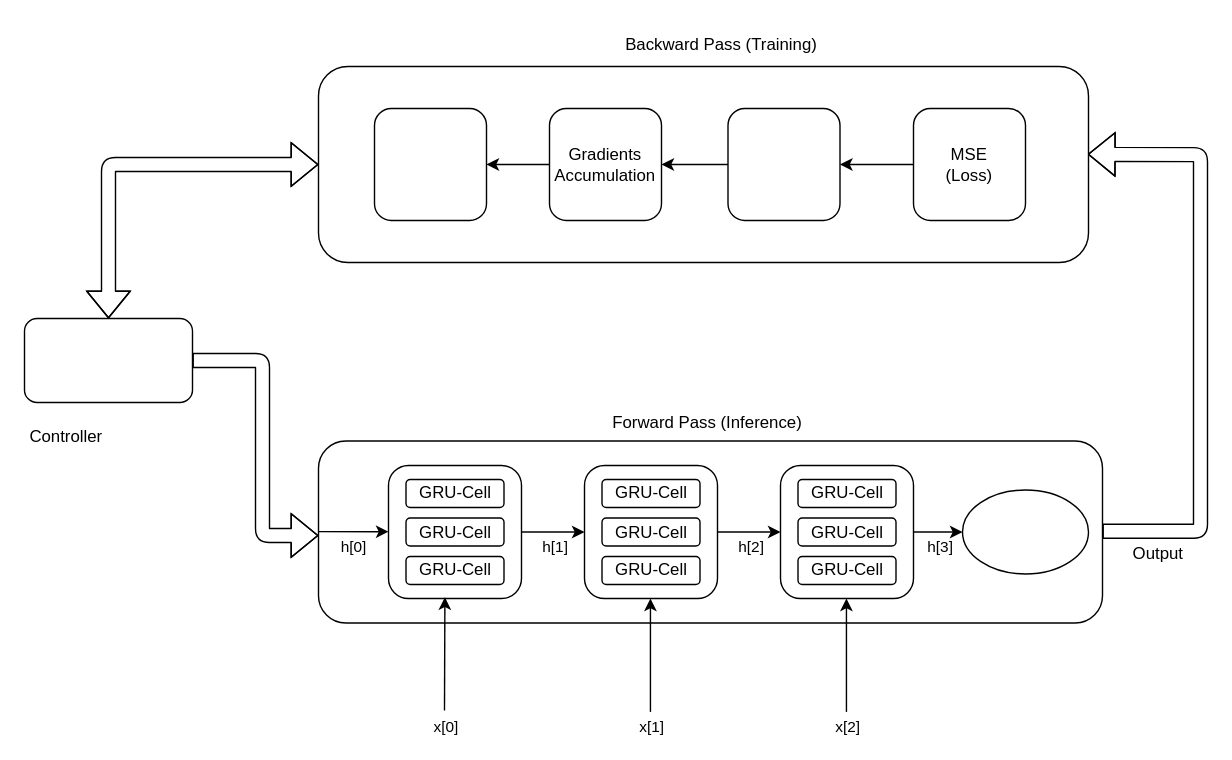
Image size: 1232x760. Some labels were removed from this diagram. Here are the shapes that lost their labels. From the top down, the box of each, then its label:
(373, 107, 486, 220): Weight Update
(727, 107, 840, 220): Gradients Calculation
(23, 317, 192, 402): Top Module
(961, 489, 1088, 574): Linear Layer
